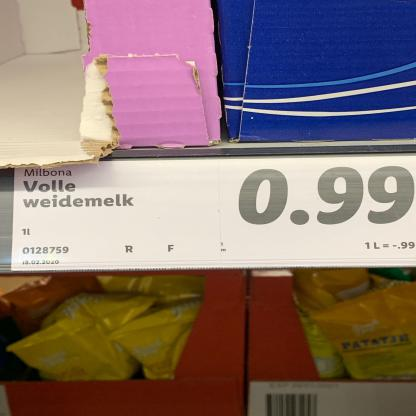prtg: (11, 153, 416, 272)
